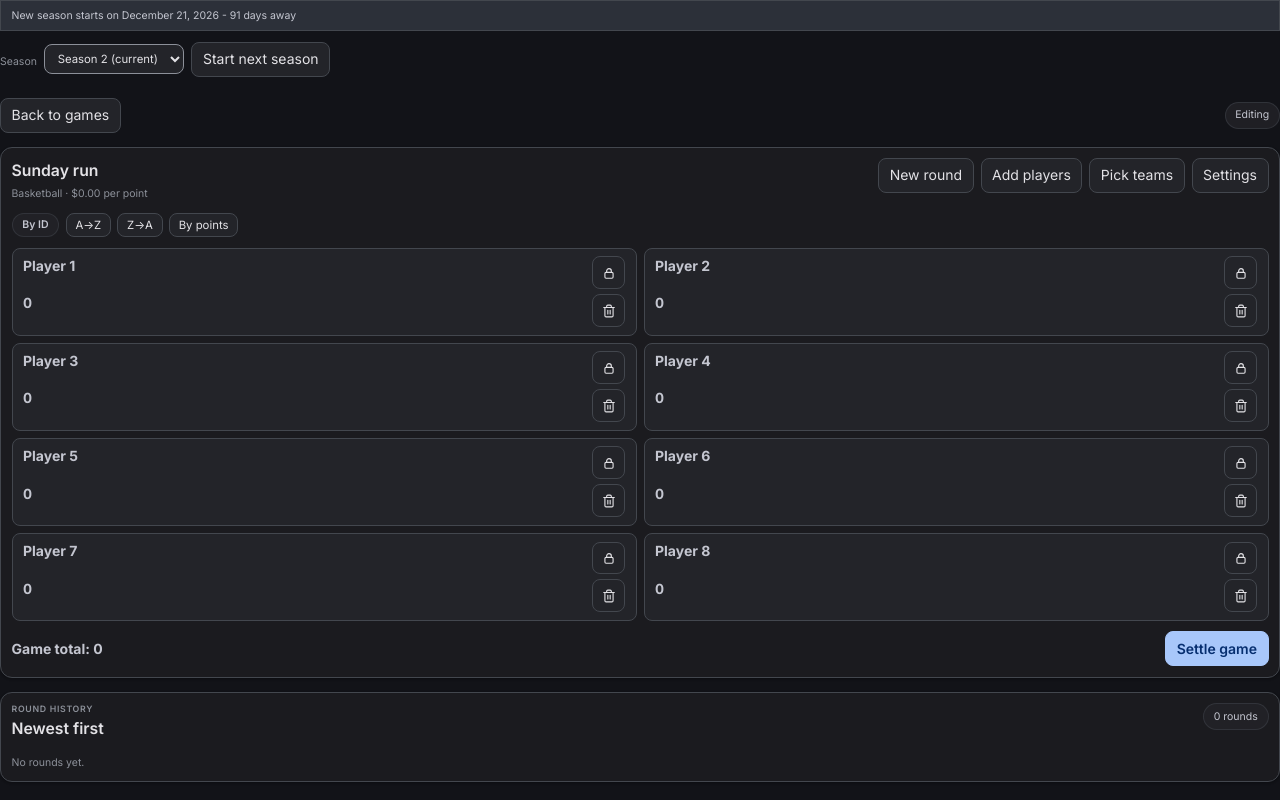
Test: GameViewPage — pick teams › picks nothing when the dialog is cancelled
Click the button "Pick teams": (1137, 175) [1089, 158, 1184, 193]
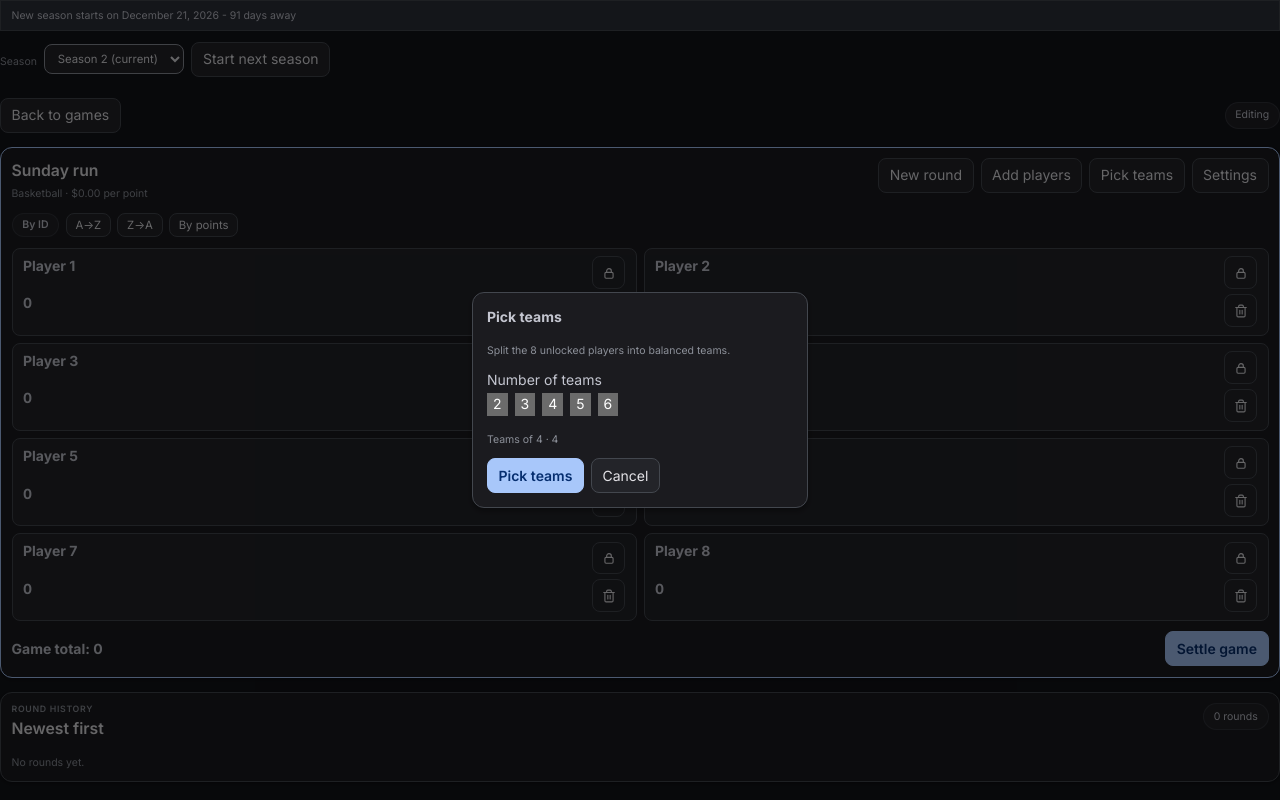
Click the button "Cancel": (625, 476) [591, 458, 660, 493]
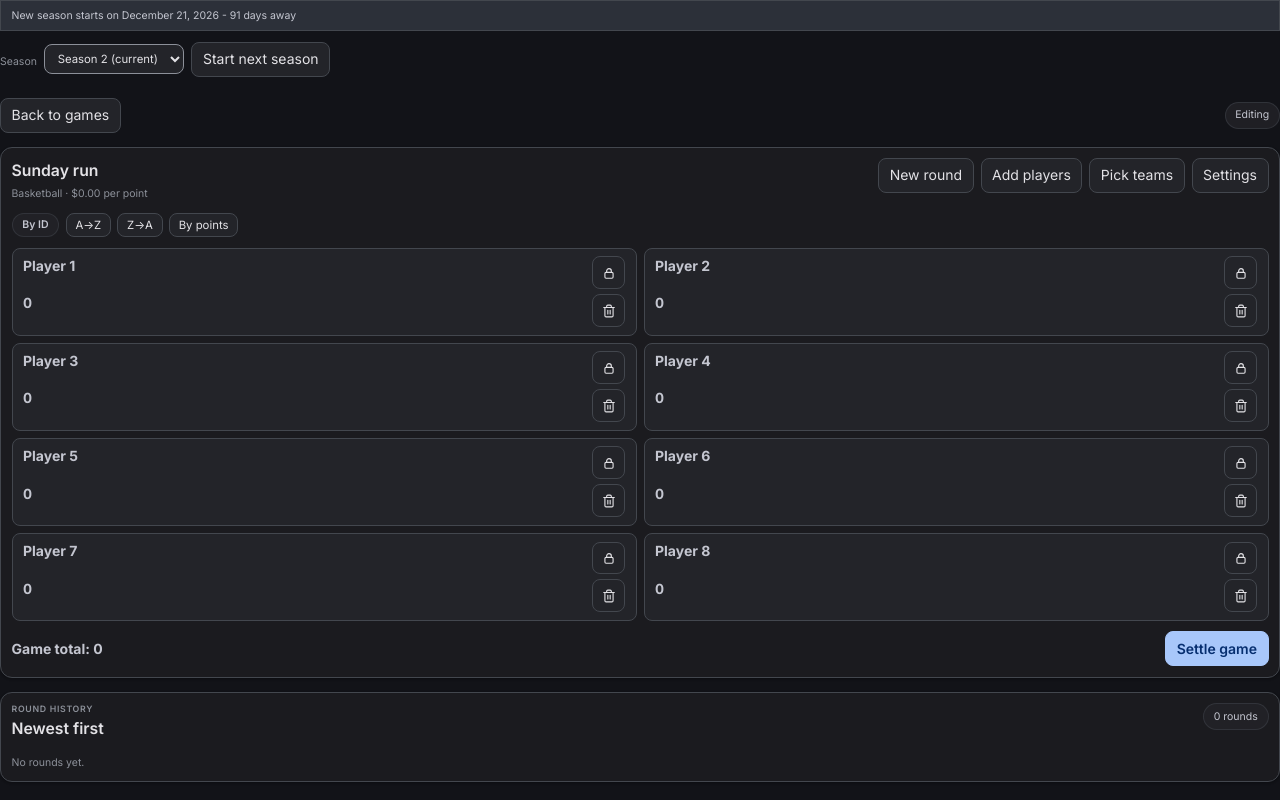
Result: the dialog is gone
